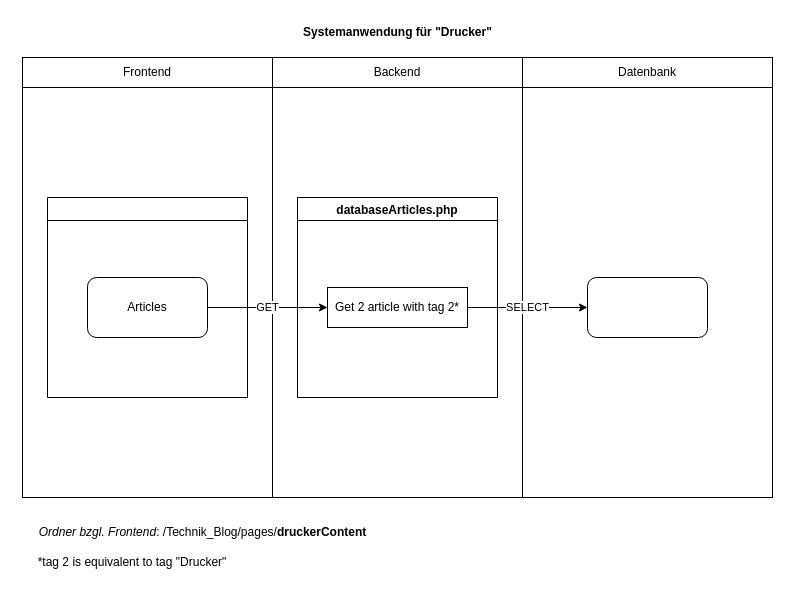
The diagram is 791 pixels wide and 594 high, and some of its shapes have lost their labels. Here are the shapes that lost their labels. From the top down, the box of each, then its label:
(46, 196, 248, 398): Home
(586, 276, 708, 338): database Tabelle
